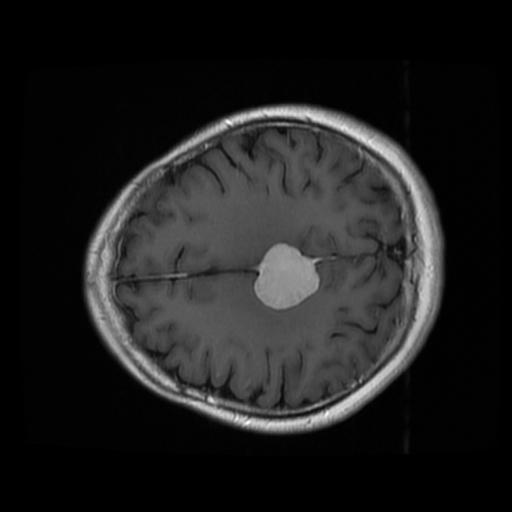meningioma: (253, 243, 320, 310)
